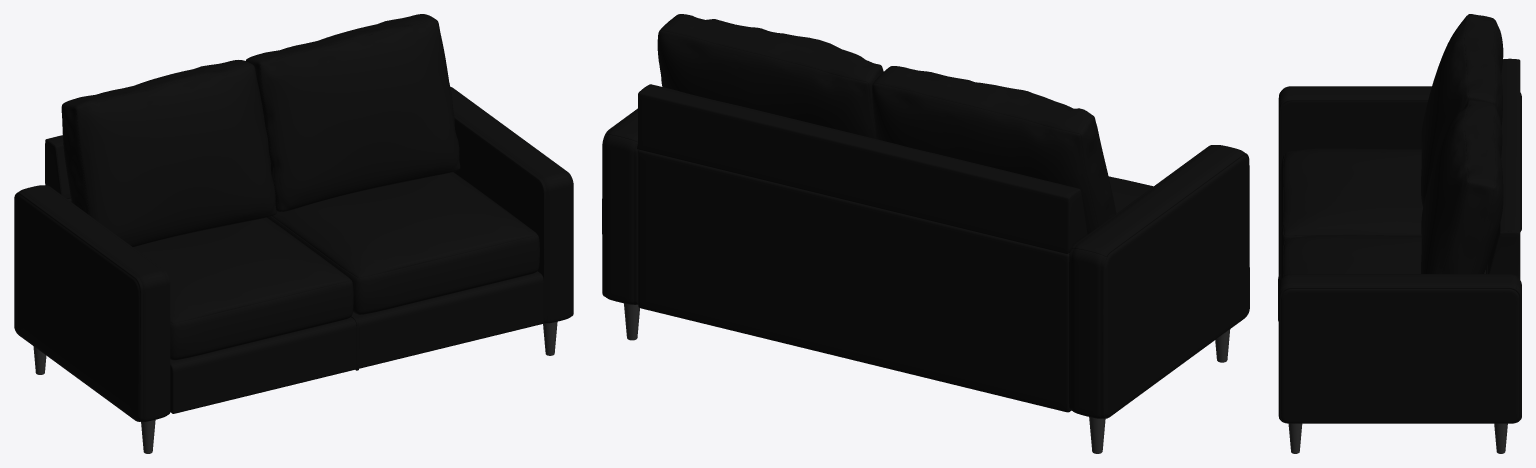
The model's file is Sofa-black.glb.
The picture shows the model from 3 angles, left to right: view 1: azimuth 30°, elevation 25°; view 2: azimuth 150°, elevation 25°; view 3: azimuth 270°, elevation 25°; orthographic projection. The views are drawn at different scales.
Parts seen in each view (by area): view 1: 800773631-WALMART-LOVESEAT_QUEER_EYE-leather, 800773631-WALMART-LOVESEAT_QUEER_EYE-paint; view 2: 800773631-WALMART-LOVESEAT_QUEER_EYE-leather, 800773631-WALMART-LOVESEAT_QUEER_EYE-paint; view 3: 800773631-WALMART-LOVESEAT_QUEER_EYE-leather, 800773631-WALMART-LOVESEAT_QUEER_EYE-paint.
Boxes of the visible parts, left/top/right/bottom form: 800773631-WALMART-LOVESEAT_QUEER_EYE-leather: left=14, top=14, right=573, bottom=421; 800773631-WALMART-LOVESEAT_QUEER_EYE-paint: left=33, top=321, right=557, bottom=453; 800773631-WALMART-LOVESEAT_QUEER_EYE-leather: left=602, top=14, right=1249, bottom=418; 800773631-WALMART-LOVESEAT_QUEER_EYE-paint: left=624, top=303, right=1230, bottom=453; 800773631-WALMART-LOVESEAT_QUEER_EYE-leather: left=1278, top=14, right=1521, bottom=423; 800773631-WALMART-LOVESEAT_QUEER_EYE-paint: left=1288, top=423, right=1507, bottom=453.
Size of the model in its own units: 1.52 by 0.9273 by 0.775.
Materials: 2 (2 with a texture image).
